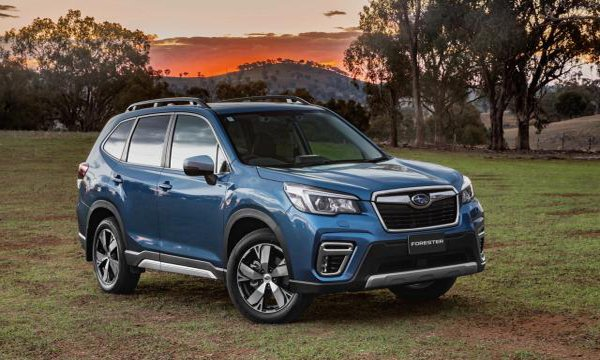pickup: (73, 94, 488, 326)
